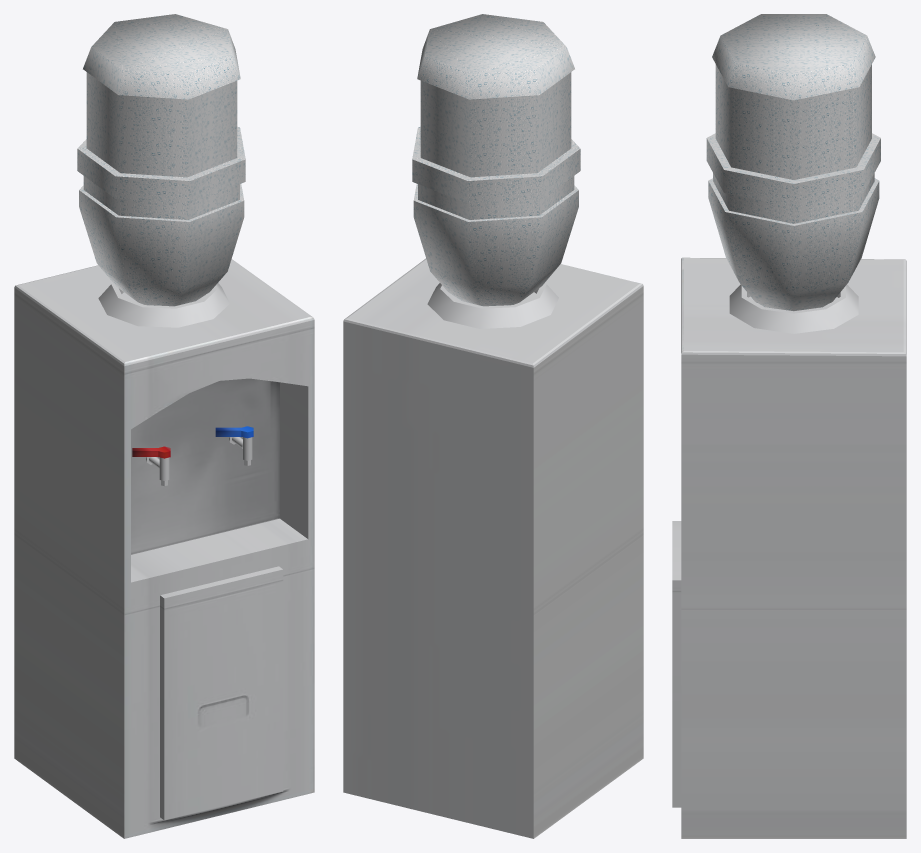
The model's file is WaterDispenser.FBX.
The picture shows the model from 3 angles, left to right: view 1: azimuth 30°, elevation 25°; view 2: azimuth 150°, elevation 25°; view 3: azimuth 270°, elevation 25°; orthographic projection. The views are drawn at different scales.
Parts seen in each view (by area): view 1: WaterDispener; view 2: WaterDispener; view 3: WaterDispener.
Part boxes in pixels (x1,y1,x2,y2): WaterDispener: [14, 14, 314, 838]; WaterDispener: [343, 14, 643, 838]; WaterDispener: [672, 14, 906, 838].
Size of the model in its own units: 41.43 by 152 by 43.04.
